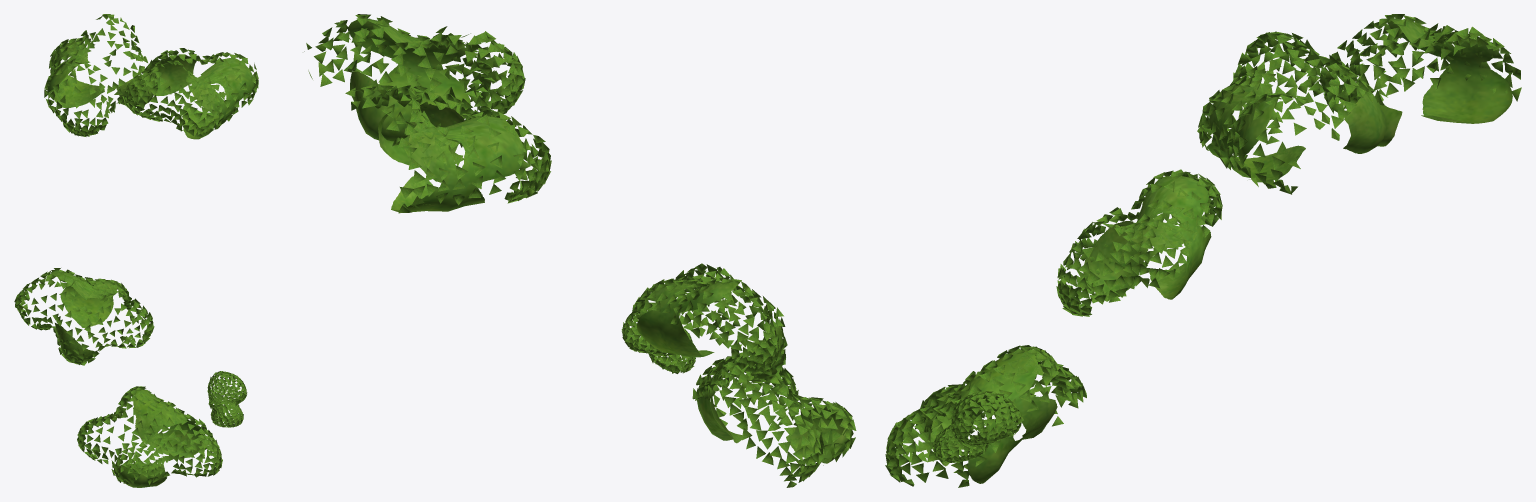
File: SM_ENV_LKNVLD_TreeSet_Q.FBX
3 views of the same model, side by side, from view 1: azimuth 30°, elevation 25°; view 2: azimuth 150°, elevation 25°; view 3: azimuth 270°, elevation 25° (orthographic). The views are drawn at different scales.
Visible parts, largest first — view 1: SM_ENV_LKNVLD_TreeSet_Q; view 2: SM_ENV_LKNVLD_TreeSet_Q; view 3: SM_ENV_LKNVLD_TreeSet_Q.
Part boxes in pixels (x1=…): SM_ENV_LKNVLD_TreeSet_Q: x1=14, y1=14, x2=258, y2=487; SM_ENV_LKNVLD_TreeSet_Q: x1=304, y1=14, x2=856, y2=487; SM_ENV_LKNVLD_TreeSet_Q: x1=885, y1=14, x2=1521, y2=487.
Size of the model in its own units: 2961 by 3408 by 3705.
